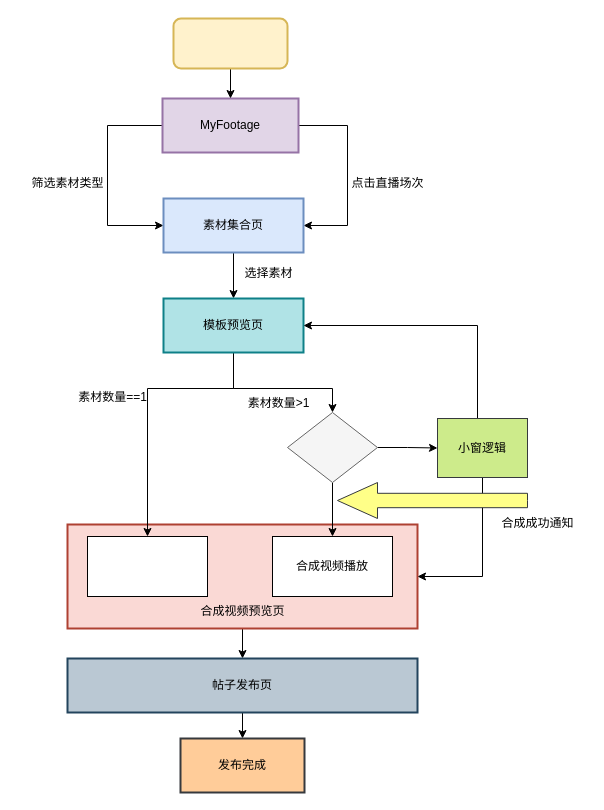
This 604x810 diagram has some shape labels left out. The shapes that lost their labels are listed below. From the top down, each one's centre as x and y in pixels, then its label:
(230,43): 我的贴文
(332,447): 是否展示小窗
(147,566): 单个素材播放
